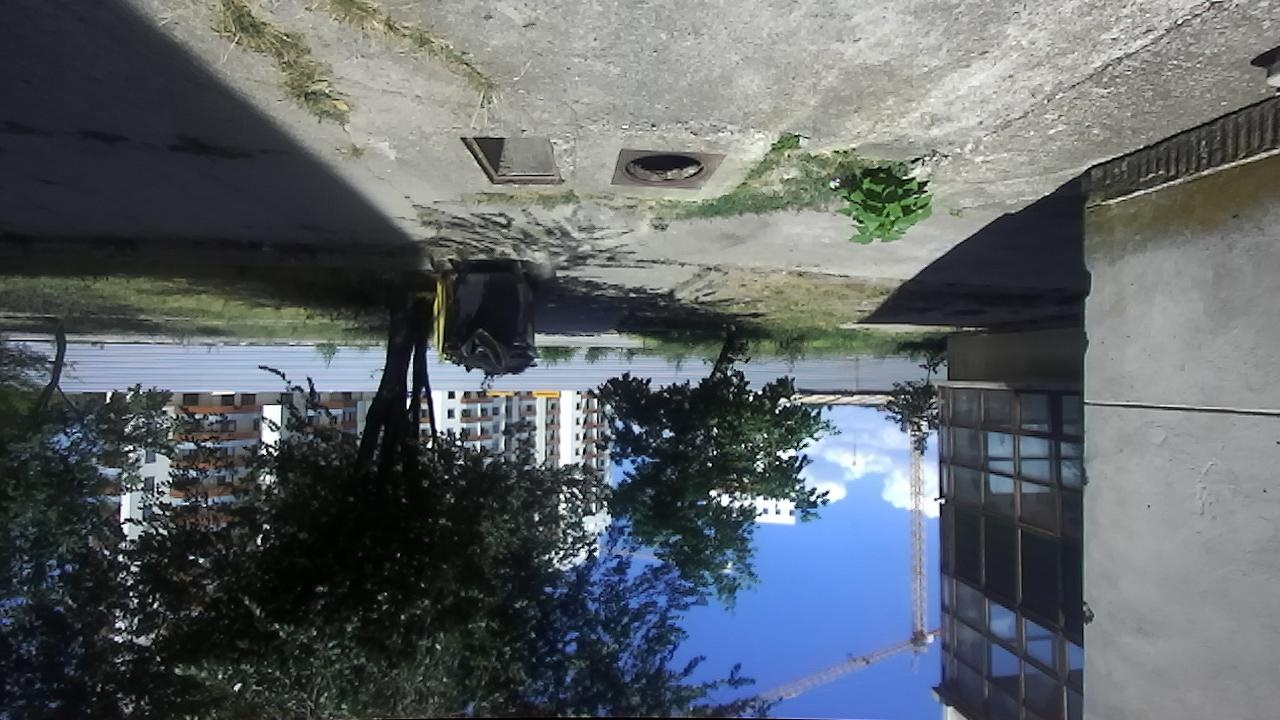drain: (454, 131, 569, 192), (620, 147, 712, 186)
